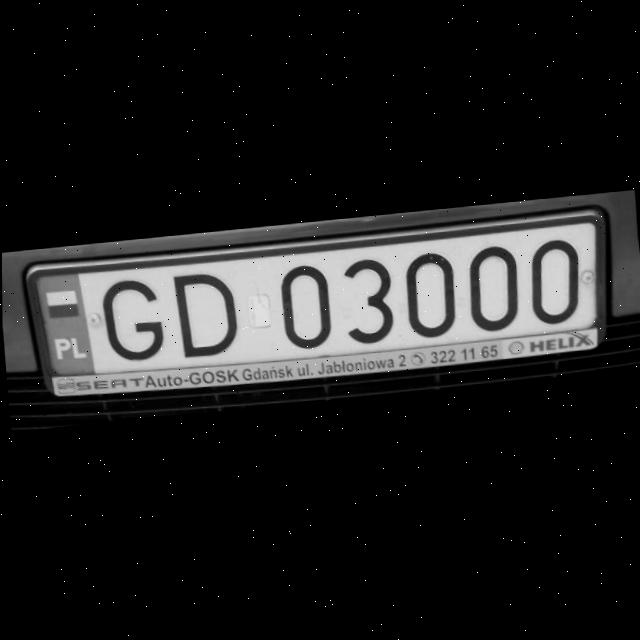license-plates: (36, 222, 598, 377)
